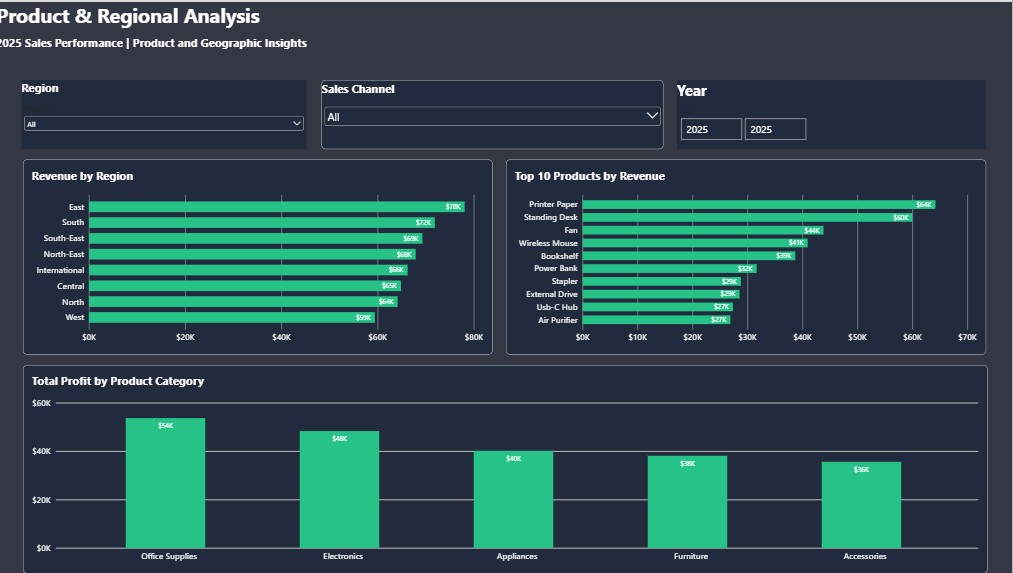

The dashboard page shown, as its layout file describes it:
{"tool":"powerbi","page":{"name":"Product & Regional Analysis","canvas":[1920,1080],"ordinal":1},"visuals":[{"type":"clusteredBarChart","title":"Revenue by Region","fields":{"Category":["Regions.Region"],"Y":["DateTable.Total Revenue"]},"box":[51,297.6,887.3,368.5],"z":0},{"type":"clusteredBarChart","title":"Top 10 Products by Revenue","fields":{"Category":["Products.Product Name"],"Y":["DateTable.Total Revenue"]},"box":[963.8,297.6,907.1,368.5],"z":1000},{"type":"clusteredColumnChart","title":"Total Profit by Product Category","fields":{"Category":["Products.Category"],"Y":["DateTable.Total Profit"]},"box":[51,686,1822.7,394],"z":2000},{"type":"slicer","title":"Region","fields":{"Values":["Regions.Region"]},"box":[48.2,147.4,538.6,130.4],"z":3000},{"type":"slicer","title":"Sales Channel","fields":{"Values":["SalesTransactions.Sales Channel"]},"box":[615.1,147.4,646.3,130.4],"z":4000},{"type":"slicer","title":"Year","fields":{"Values":["DateTable.Year"]},"box":[1286.9,147.4,583.9,130.4],"z":5000},{"type":"textbox","box":[0,0,539,150],"z":6000},{"type":"textbox","box":[0,62.4,637.8,150.2],"z":7000}]}

Visuals, with their boxes in screenshot pixels (x1, y1, x2, y2), scaled from the page's 1920x1080 canvas onto the 1013x573 screenshot:
"Revenue by Region" clusteredBarChart: bbox=(27, 158, 495, 353)
"Top 10 Products by Revenue" clusteredBarChart: bbox=(509, 158, 987, 353)
"Total Profit by Product Category" clusteredColumnChart: bbox=(27, 364, 989, 572)
"Region" slicer: bbox=(25, 78, 310, 147)
"Sales Channel" slicer: bbox=(325, 78, 666, 147)
"Year" slicer: bbox=(679, 78, 987, 147)
textbox: bbox=(0, 0, 284, 80)
textbox: bbox=(0, 33, 337, 113)
